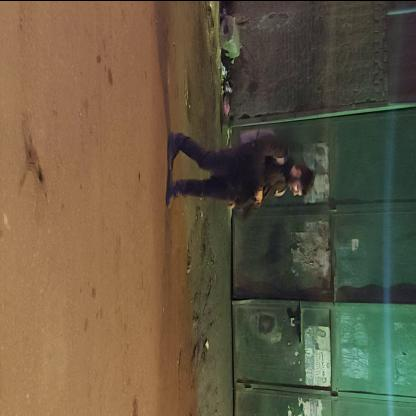long weapon: (239, 178, 280, 228)
